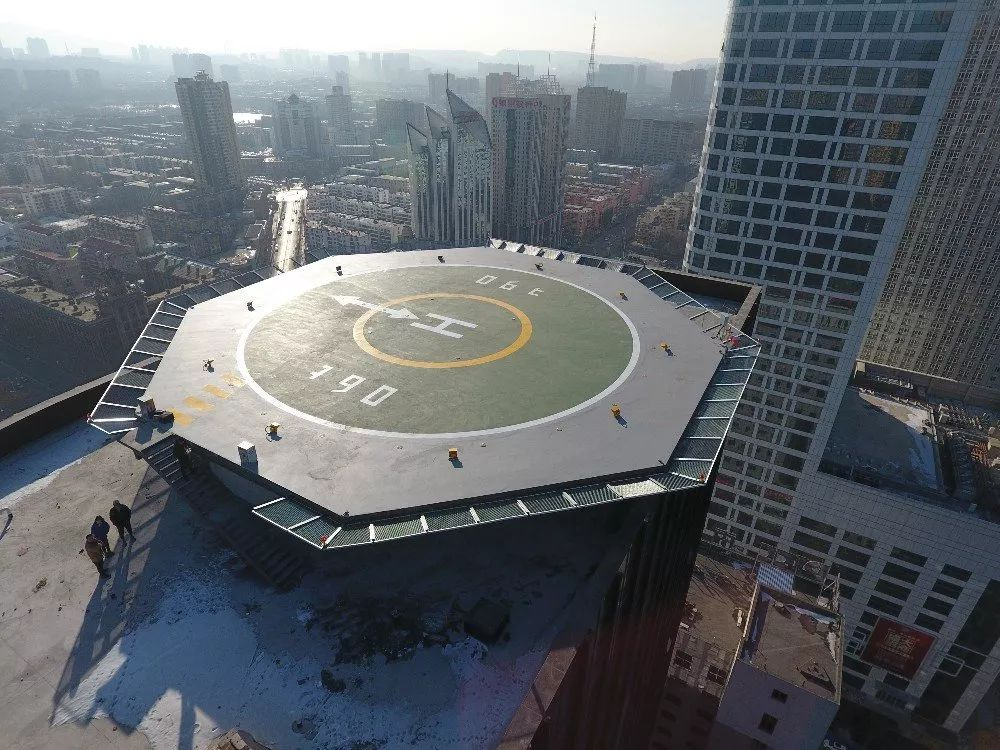Apron: (353, 293, 534, 370)
